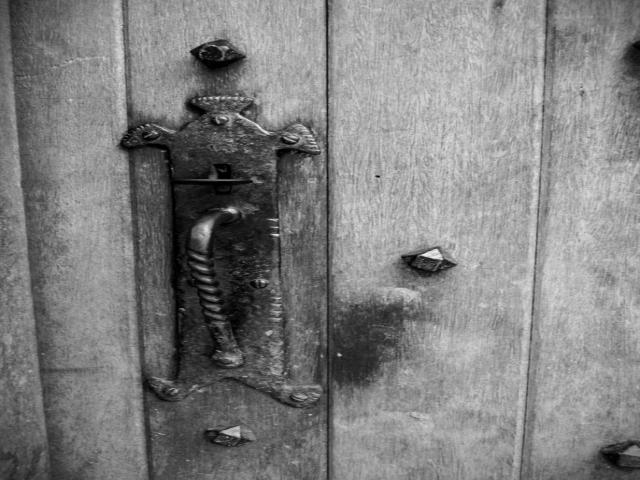Door-handle: (117, 95, 320, 409)
